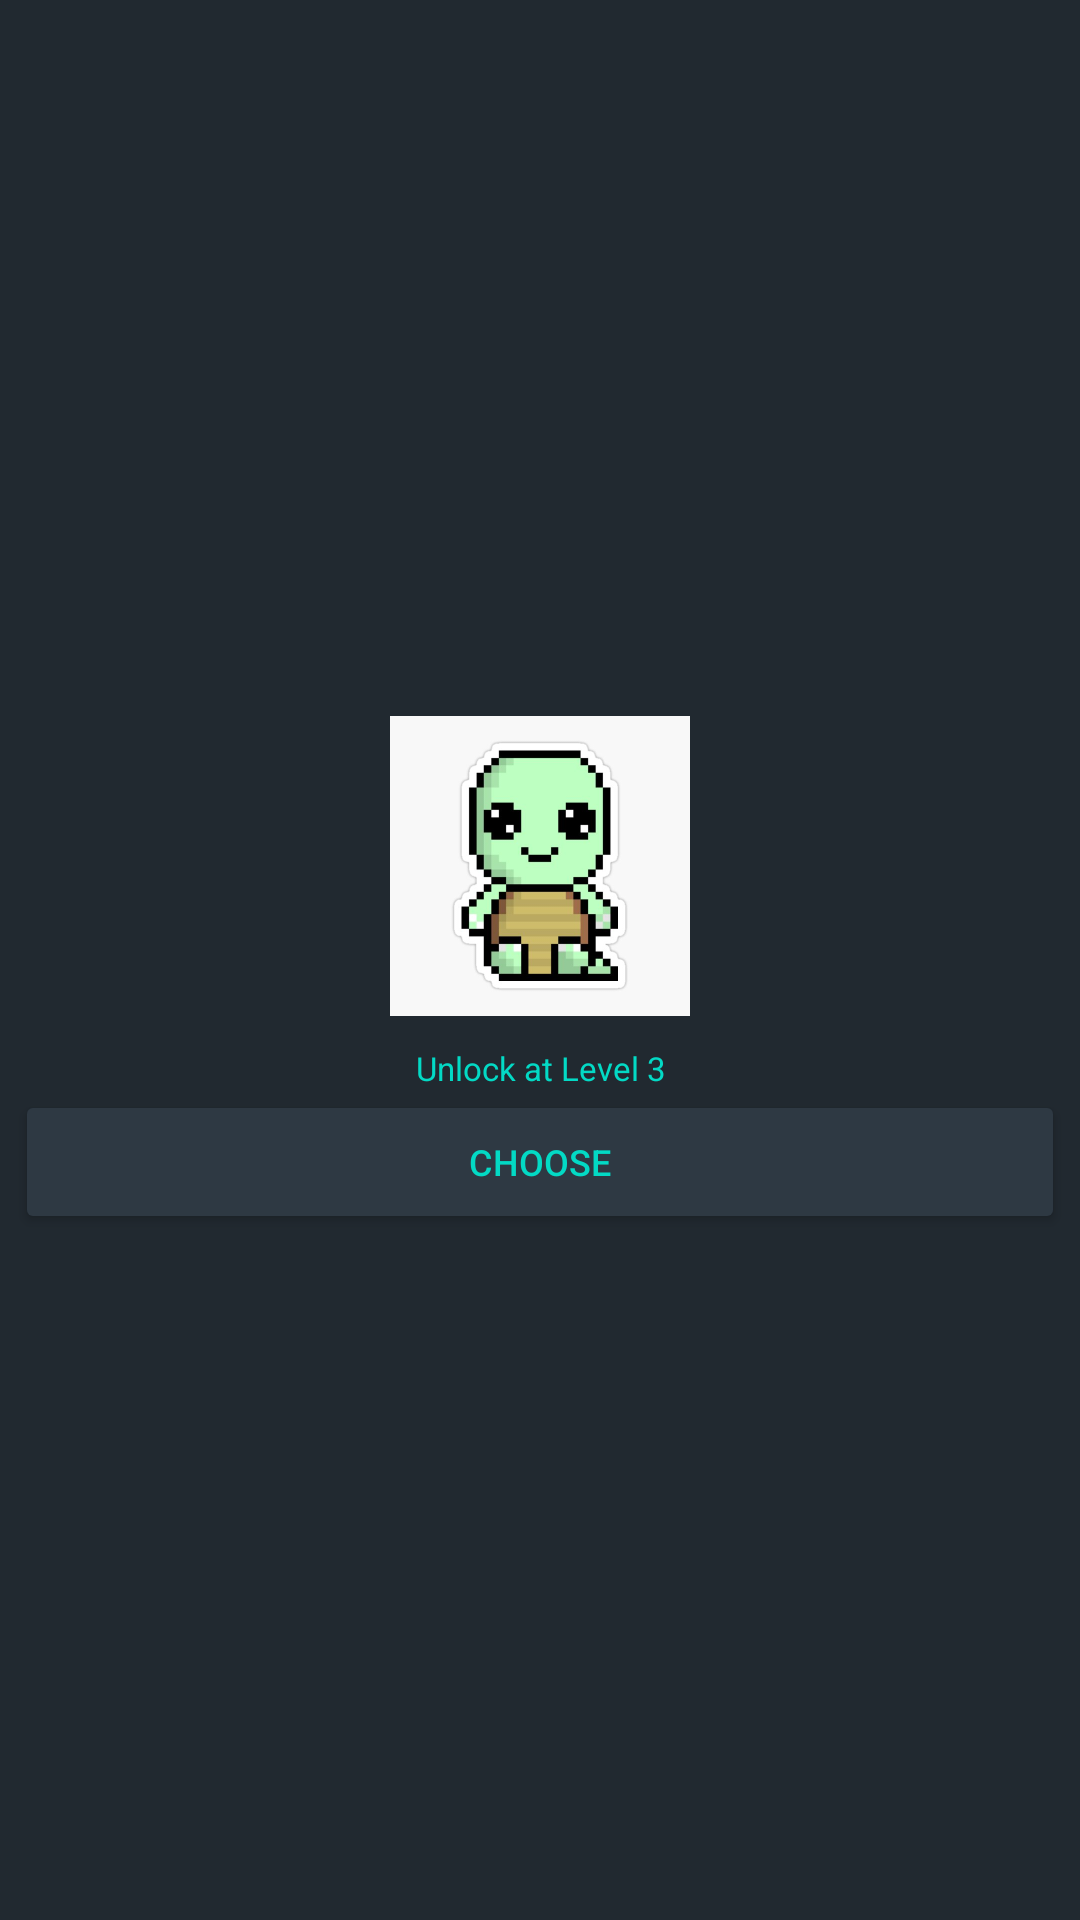

Point at icon controls on the screen. Image size 1080x1920, points as [x,y].
baby turtle: [540,866]
